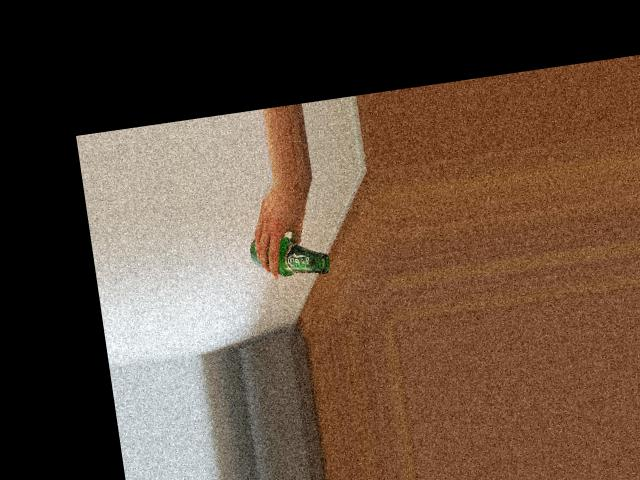beer: (249, 230, 332, 283)
